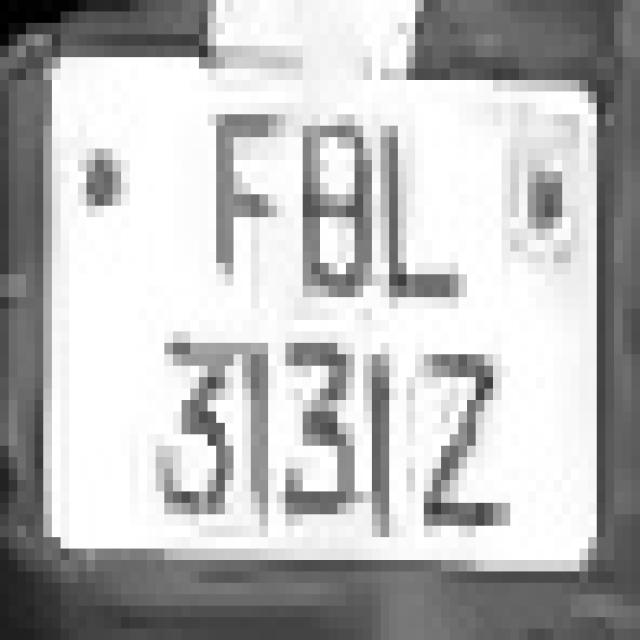1: (225, 297, 277, 560), (355, 343, 415, 548)
3: (147, 286, 225, 537), (277, 286, 346, 548)
B: (285, 92, 372, 308)
F: (199, 68, 294, 286)
L: (363, 92, 450, 297)
Z: (406, 308, 511, 572)
